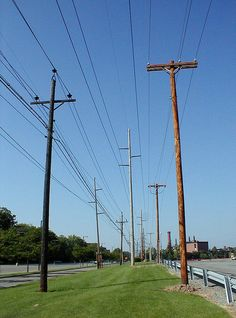utility_pole: (25, 64, 78, 130), (141, 50, 200, 98)
